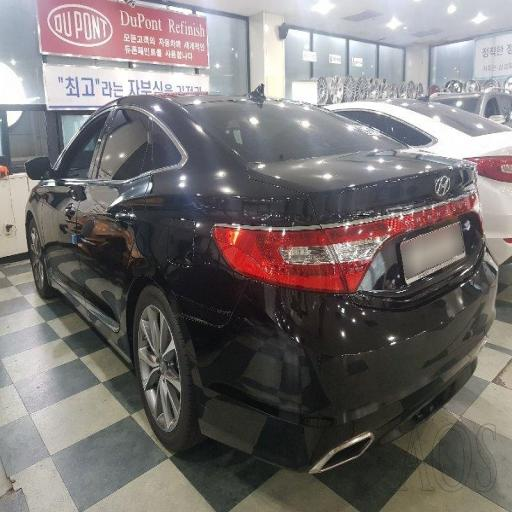scratch: (149, 170, 480, 340)
